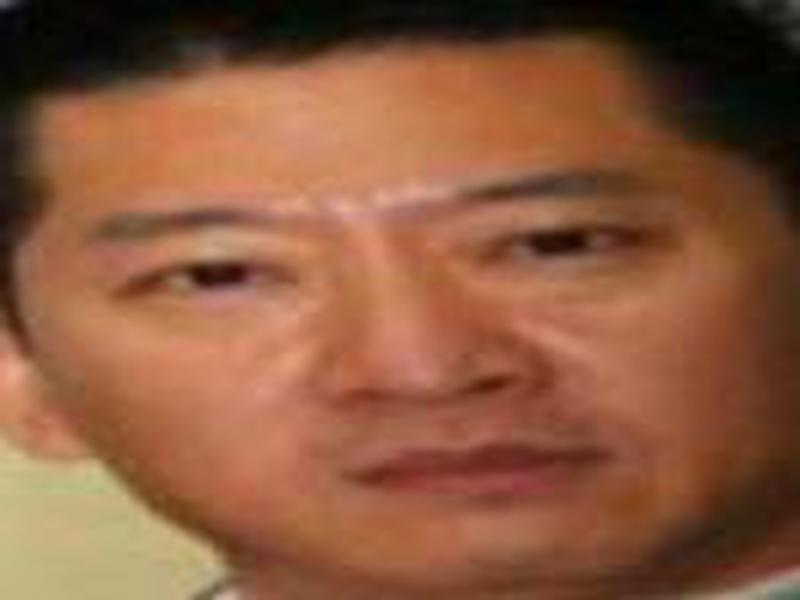without_mask: (34, 84, 766, 584)
